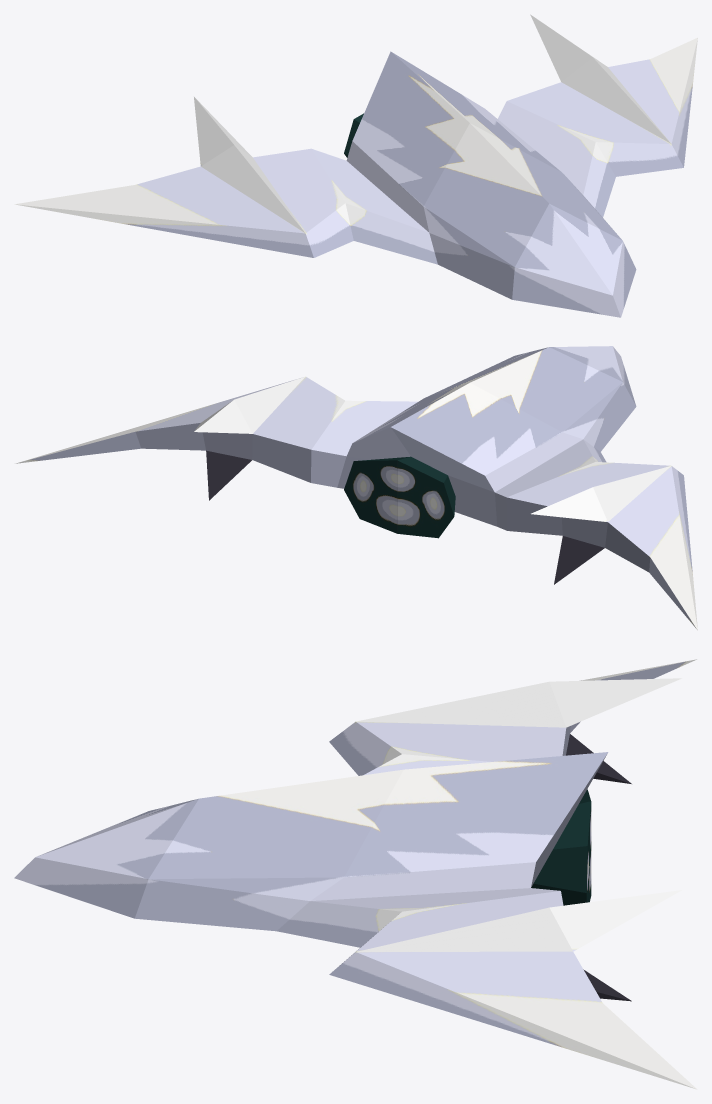
The model's file is spark7.obj.
3 renders of one model, top to bottom at view 1: azimuth 30°, elevation 25°; view 2: azimuth 150°, elevation 25°; view 3: azimuth 270°, elevation 25°, orthographic. The views are drawn at different scales.
Parts seen in each view (by area): view 1: Plane; view 2: Plane; view 3: Plane.
Part boxes in pixels (x1,y1,x2,y2): Plane: (15, 14, 697, 317); Plane: (15, 346, 697, 630); Plane: (14, 659, 697, 1089).
Bounding box in the file's own units: 2.17 × 0.3383 × 1.46.
1 material, 1 textured.
